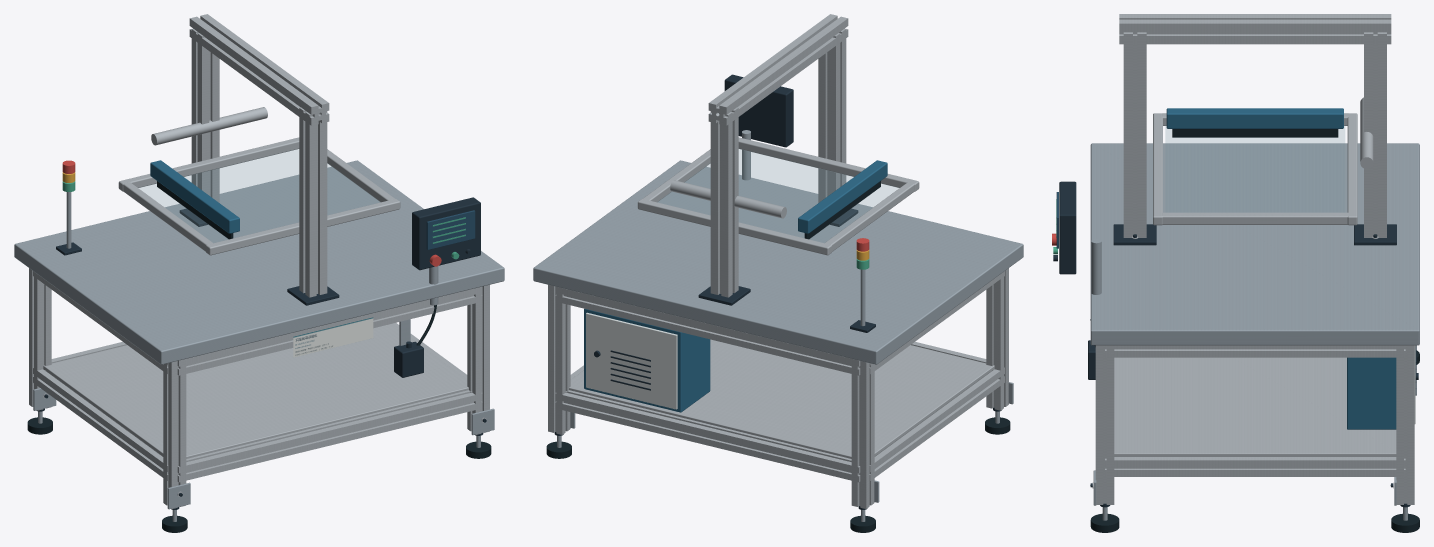
Rendered from screen-print-press.glb.
3 renders of one model, left to right at view 1: azimuth 30°, elevation 25°; view 2: azimuth 150°, elevation 25°; view 3: azimuth 270°, elevation 25°, orthographic. The views are drawn at different scales.
Visible parts, largest first — view 1: ClosedMachineBed_40, LowerShelf_41, FineScreenMesh_86, SlottedExtrusion_34, SlottedExtrusion_76, SlottedExtrusion_81, SlottedExtrusion_35, SlottedExtrusion_71, SlottedExtrusion_11, SlottedExtrusion_36, ConsoleBack_52, SlottedExtrusion_27 (+11 smaller); view 2: ClosedMachineBed_40, LowerShelf_41, FineScreenMesh_86, BackDoor_43, SlottedExtrusion_32, SlottedExtrusion_71, SlottedExtrusion_33, SlottedExtrusion_81, SlottedExtrusion_76, SlottedExtrusion_3, Cabinet_42, SlottedExtrusion_19 (+10 smaller); view 3: ClosedMachineBed_40, LowerShelf_41, FineScreenMesh_86, SlottedExtrusion_81, SlottedExtrusion_38, SlottedExtrusion_76, SlottedExtrusion_71, SlottedExtrusion_39, BladeCarrier_87, Cabinet_42, SlottedExtrusion_27, SlottedExtrusion_19 (+11 smaller).
Part boxes in pixels (x1=…): ClosedMachineBed_40: x1=14, y1=160, x2=504, y2=364; LowerShelf_41: x1=43, y1=324, x2=468, y2=458; FineScreenMesh_86: x1=139, y1=149, x2=379, y2=242; SlottedExtrusion_34: x1=177, y1=390, x2=482, y2=482; SlottedExtrusion_76: x1=299, y1=107, x2=327, y2=297; SlottedExtrusion_81: x1=189, y1=14, x2=329, y2=125; SlottedExtrusion_35: x1=177, y1=286, x2=482, y2=375; SlottedExtrusion_71: x1=191, y1=28, x2=219, y2=202; SlottedExtrusion_11: x1=163, y1=359, x2=186, y2=508; SlottedExtrusion_36: x1=33, y1=367, x2=168, y2=480; ConsoleBack_52: x1=412, y1=197, x2=480, y2=270; SlottedExtrusion_27: x1=467, y1=285, x2=489, y2=434; ClosedMachineBed_40: x1=533, y1=160, x2=1023, y2=364; LowerShelf_41: x1=569, y1=339, x2=994, y2=458; FineScreenMesh_86: x1=658, y1=149, x2=898, y2=242; BackDoor_43: x1=586, y1=312, x2=677, y2=409; SlottedExtrusion_32: x1=555, y1=390, x2=860, y2=482; SlottedExtrusion_71: x1=710, y1=107, x2=738, y2=297; SlottedExtrusion_33: x1=555, y1=286, x2=860, y2=375; SlottedExtrusion_81: x1=708, y1=14, x2=848, y2=125; SlottedExtrusion_76: x1=818, y1=28, x2=846, y2=202; SlottedExtrusion_3: x1=851, y1=359, x2=874, y2=508; Cabinet_42: x1=584, y1=308, x2=710, y2=412; SlottedExtrusion_19: x1=548, y1=285, x2=570, y2=434; ClosedMachineBed_40: x1=1090, y1=143, x2=1419, y2=345; LowerShelf_41: x1=1114, y1=357, x2=1396, y2=456; FineScreenMesh_86: x1=1165, y1=125, x2=1344, y2=212; SlottedExtrusion_81: x1=1119, y1=14, x2=1391, y2=44; SlottedExtrusion_38: x1=1105, y1=457, x2=1405, y2=476; SlottedExtrusion_76: x1=1123, y1=32, x2=1146, y2=237; SlottedExtrusion_71: x1=1364, y1=32, x2=1386, y2=237; SlottedExtrusion_39: x1=1105, y1=345, x2=1405, y2=357; BladeCarrier_87: x1=1166, y1=108, x2=1343, y2=128; Cabinet_42: x1=1347, y1=357, x2=1396, y2=429; SlottedExtrusion_27: x1=1095, y1=345, x2=1114, y2=504; SlottedExtrusion_19: x1=1396, y1=345, x2=1414, y2=504.
Size of the model in its own units: 1.55 by 1.64 by 1.29.
12 materials, 3 textured.
